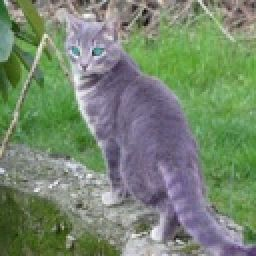cat: (58, 8, 246, 252)
